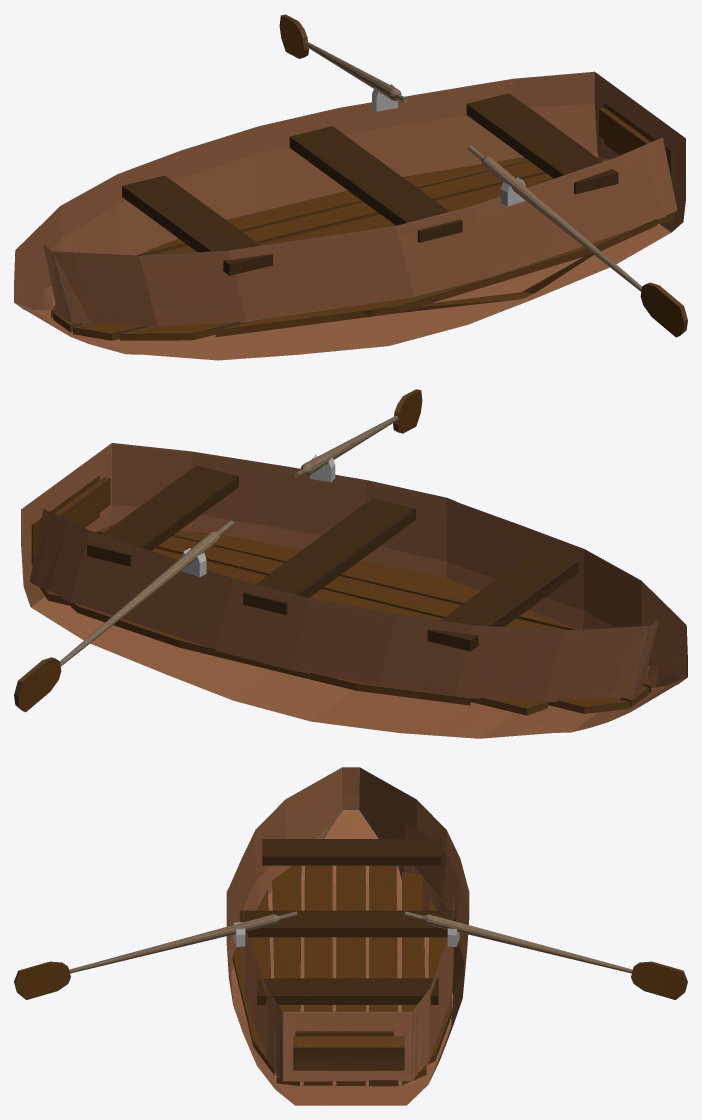
The model's file is RowboatbyPoly.glb.
3 renders of one model, top to bottom at view 1: azimuth 30°, elevation 25°; view 2: azimuth 150°, elevation 25°; view 3: azimuth 270°, elevation 25°, orthographic. The views are drawn at different scales.
Visible parts, largest first — view 1: Node; view 2: Node; view 3: Node.
Part boxes in pixels (left/top/right/bottom): Node: left=14, top=14, right=687, bottom=360; Node: left=14, top=389, right=687, bottom=738; Node: left=14, top=767, right=687, bottom=1105.
Bounding box in the file's own units: 773 × 181 × 863.
1 material, 1 textured.
